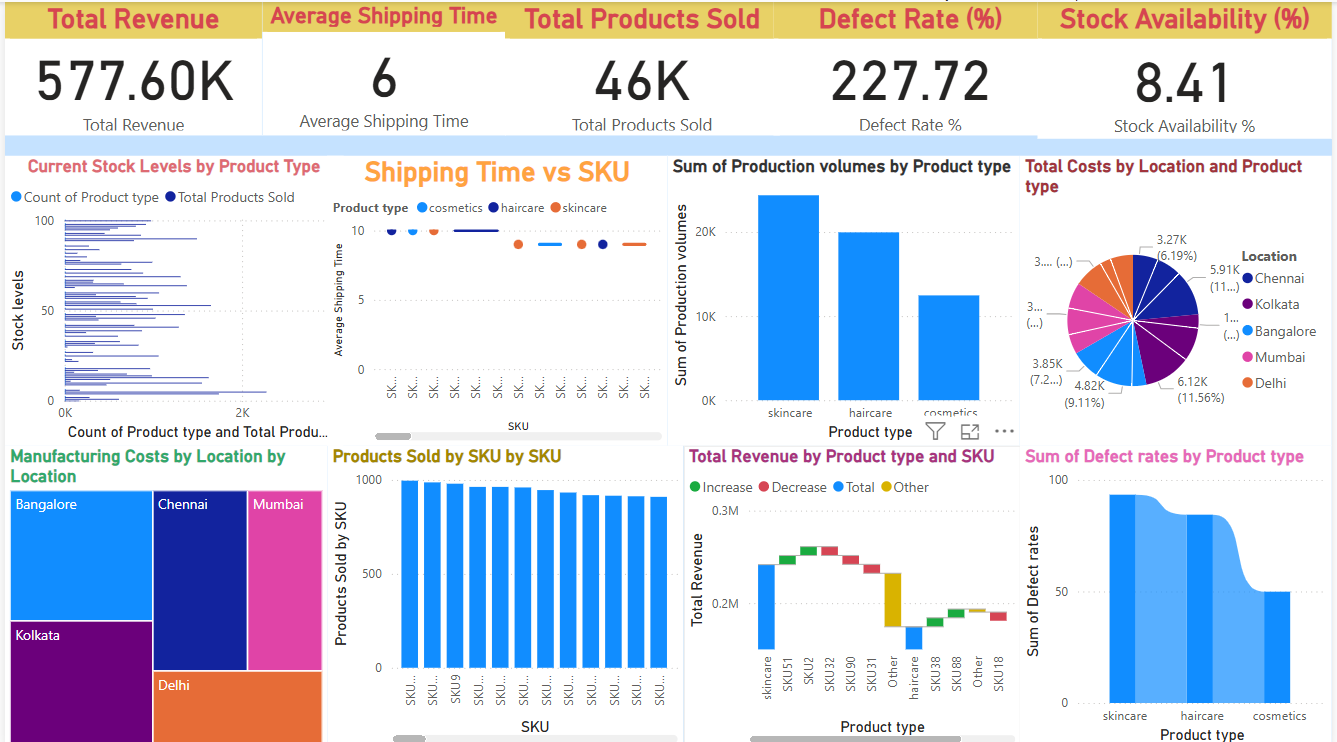

The dashboard page shown, as its layout file describes it:
{"tool":"powerbi","page":{"name":"Page 1","canvas":[1280,720],"ordinal":0},"visuals":[{"type":"clusteredBarChart","title":"Current Stock Levels by Product Type","fields":{"Y":["CountNonNull(supply_chain_data - supply_chain_data.Product type)","supply_chain_data - supply_chain_data.Total Products Sold"],"Category":["supply_chain_data - supply_chain_data.Stock levels"]},"box":[0,148.2,326.6,279.9],"z":0},{"type":"lineChart","title":"Shipping Time vs SKU","fields":{"Series":["supply_chain_data - supply_chain_data.Product type"],"Category":["supply_chain_data - supply_chain_data.SKU"],"Y":["supply_chain_data - supply_chain_data.Average Shipping Time"]},"box":[311.5,148.2,328,279.9],"z":1000},{"type":"card","title":"Total Revenue ","fields":{"Values":["supply_chain_data - supply_chain_data.Total Revenue"]},"box":[0,0,248.4,129],"z":2000},{"type":"card","title":"Average Shipping Time","fields":{"Values":["supply_chain_data - supply_chain_data.Total Products Sold"]},"box":[248.4,0,234.6,129],"z":3000},{"type":"card","title":"Total Products Sold","fields":{"Values":["supply_chain_data - supply_chain_data.Total Products Sold"]},"box":[483,0,264.8,129],"z":4000},{"type":"card","title":"Defect Rate (%)","fields":{"Values":["supply_chain_data - supply_chain_data.Defect Rate %"]},"box":[742.4,0,263.5,129],"z":5000},{"type":"card","title":"  Stock Availability (%)","fields":{"Values":["supply_chain_data - supply_chain_data.Stock Availability %"]},"box":[996.2,0,284,131.7],"z":6000},{"type":"columnChart","fields":{"Category":["supply_chain_data - supply_chain_data.Product type"],"Y":["Sum(supply_chain_data - supply_chain_data.Production volumes)"]},"box":[639.5,148.2,340.3,279.9],"z":7000},{"type":"clusteredColumnChart","fields":{"Category":["supply_chain_data - supply_chain_data.SKU"],"Y":["supply_chain_data - supply_chain_data.Products Sold by SKU"]},"box":[311.5,428.1,343.1,292.3],"z":8000},{"type":"treemap","fields":{"Group":["supply_chain_data - supply_chain_data.Location"],"Values":["supply_chain_data - supply_chain_data.Manufacturing Costs by Location"]},"box":[0,428.1,311.5,292.3],"z":9000},{"type":"waterfallChart","fields":{"Category":["supply_chain_data - supply_chain_data.Product type"],"Y":["supply_chain_data - supply_chain_data.Total Revenue"],"Breakdown":["supply_chain_data - supply_chain_data.SKU"]},"box":[654.5,428.1,325.2,292.3],"z":10000},{"type":"pieChart","fields":{"Category":["supply_chain_data - supply_chain_data.Location"],"Y":["supply_chain_data - supply_chain_data.Total Costs"],"Series":["supply_chain_data - supply_chain_data.Product type"]},"box":[979.8,148.2,300.5,279.9],"z":11000},{"type":"ribbonChart","fields":{"Category":["supply_chain_data - supply_chain_data.Product type"],"Y":["Sum(supply_chain_data - supply_chain_data.Defect rates)"]},"box":[979.8,428.1,300.5,292.3],"z":12000}]}

Visuals, with their boxes in screenshot pixels (x1, y1, x2, y2), scaled from the page's 1280x720 canvas onto the 1337x742 screenshot:
"Current Stock Levels by Product Type" clusteredBarChart: {"x1": 0, "y1": 153, "x2": 341, "y2": 441}
"Shipping Time vs SKU" lineChart: {"x1": 325, "y1": 153, "x2": 668, "y2": 441}
"Total Revenue " card: {"x1": 0, "y1": 0, "x2": 259, "y2": 133}
"Average Shipping Time" card: {"x1": 259, "y1": 0, "x2": 505, "y2": 133}
"Total Products Sold" card: {"x1": 505, "y1": 0, "x2": 781, "y2": 133}
"Defect Rate (%)" card: {"x1": 775, "y1": 0, "x2": 1051, "y2": 133}
"  Stock Availability (%)" card: {"x1": 1041, "y1": 0, "x2": 1336, "y2": 136}
columnChart - supply_chain_data - supply_chain_data.Product type x Sum(supply_chain_data - supply_chain_data.Production volumes): {"x1": 668, "y1": 153, "x2": 1023, "y2": 441}
clusteredColumnChart - supply_chain_data - supply_chain_data.SKU x supply_chain_data - supply_chain_data.Products Sold by SKU: {"x1": 325, "y1": 441, "x2": 684, "y2": 741}
treemap - supply_chain_data - supply_chain_data.Location x supply_chain_data - supply_chain_data.Manufacturing Costs by Location: {"x1": 0, "y1": 441, "x2": 325, "y2": 741}
waterfallChart - supply_chain_data - supply_chain_data.Product type x supply_chain_data - supply_chain_data.Total Revenue: {"x1": 684, "y1": 441, "x2": 1023, "y2": 741}
pieChart - supply_chain_data - supply_chain_data.Location x supply_chain_data - supply_chain_data.Total Costs: {"x1": 1023, "y1": 153, "x2": 1336, "y2": 441}
ribbonChart - supply_chain_data - supply_chain_data.Product type x Sum(supply_chain_data - supply_chain_data.Defect rates): {"x1": 1023, "y1": 441, "x2": 1336, "y2": 741}
